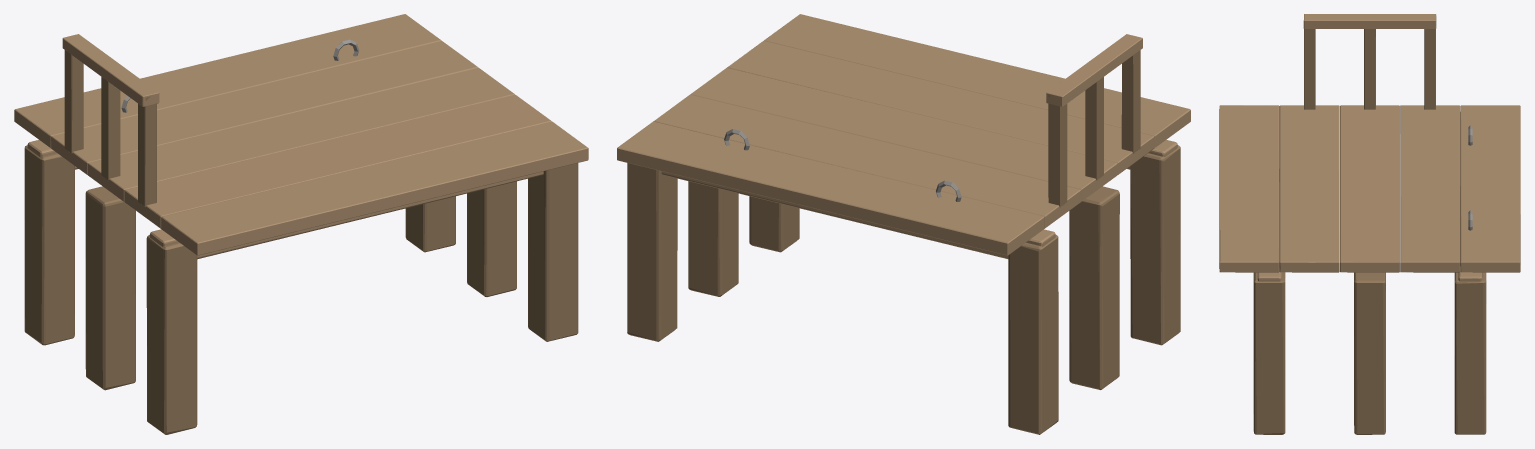
The model's file is 40-Infraestructura_muelle_madera.glb.
3 views of the same model, side by side, from view 1: azimuth 30°, elevation 25°; view 2: azimuth 150°, elevation 25°; view 3: azimuth 270°, elevation 25° (orthographic). The views are drawn at different scales.
Visible parts, largest first — view 1: SM_Muelle_M_Madera_Muelle, SM_Muelle_M_Madera_Muelle_Osc; view 2: SM_Muelle_M_Madera_Muelle, SM_Muelle_M_Madera_Muelle_Osc; view 3: SM_Muelle_M_Madera_Muelle, SM_Muelle_M_Madera_Muelle_Osc.
Boxes of the visible parts, bbox=[...] form: SM_Muelle_M_Madera_Muelle: bbox=[14, 14, 588, 259]; SM_Muelle_M_Madera_Muelle_Osc: bbox=[24, 50, 578, 434]; SM_Muelle_M_Madera_Muelle: bbox=[617, 14, 1190, 258]; SM_Muelle_M_Madera_Muelle_Osc: bbox=[627, 50, 1180, 434]; SM_Muelle_M_Madera_Muelle: bbox=[1219, 14, 1520, 281]; SM_Muelle_M_Madera_Muelle_Osc: bbox=[1253, 29, 1486, 434].
Bounding box in the file's own units: 1.96 × 1.42 × 1.5.
